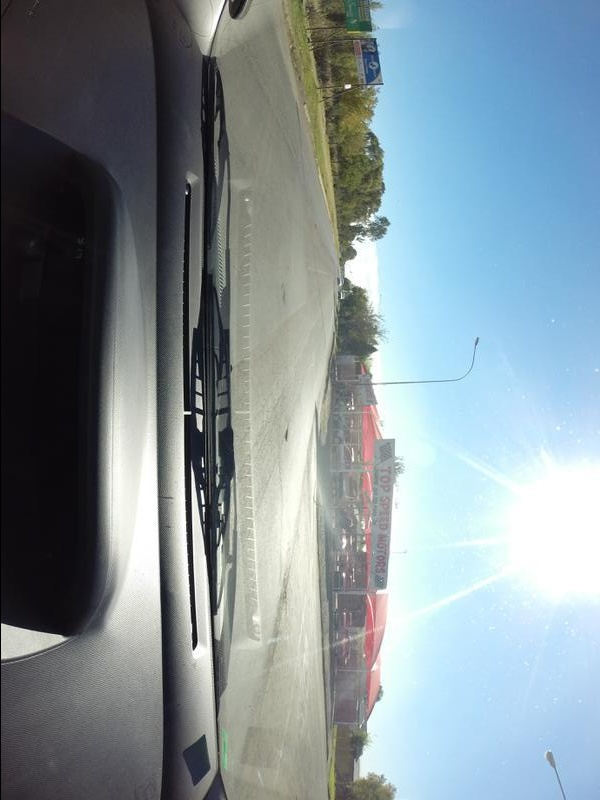pothole: (271, 427, 294, 463)
